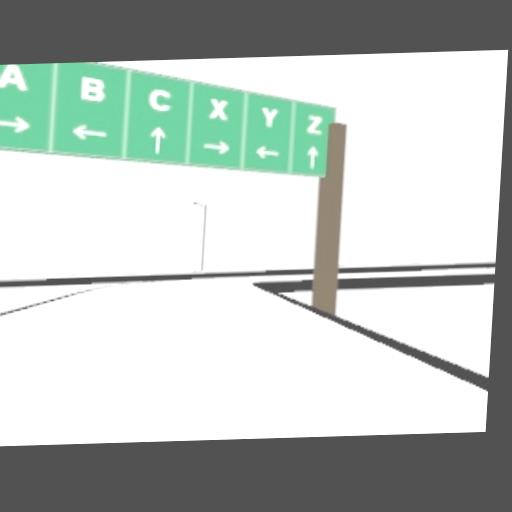A: (0, 64, 30, 91)
B: (80, 75, 109, 103)
C: (149, 89, 172, 111)
Left: (68, 123, 108, 140), (255, 144, 280, 159)
Right: (0, 115, 31, 134), (200, 139, 231, 156)
Straight: (149, 125, 166, 153), (306, 147, 320, 170)
X: (208, 98, 230, 121)
Y: (260, 106, 279, 128)
Z: (307, 115, 323, 136)
